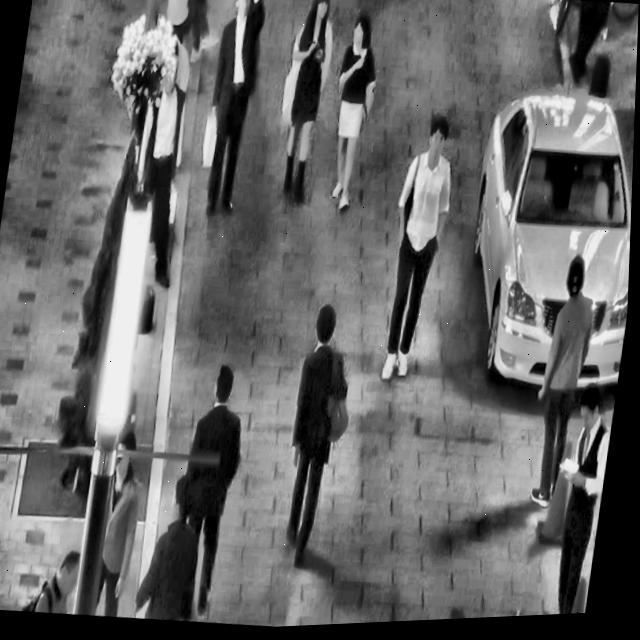light_vehicle: (446, 68, 637, 414)
